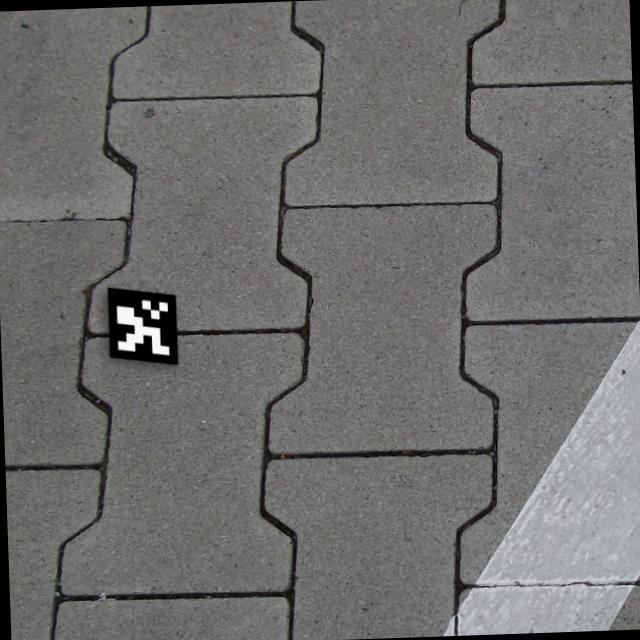marker: (86, 276, 192, 375)
